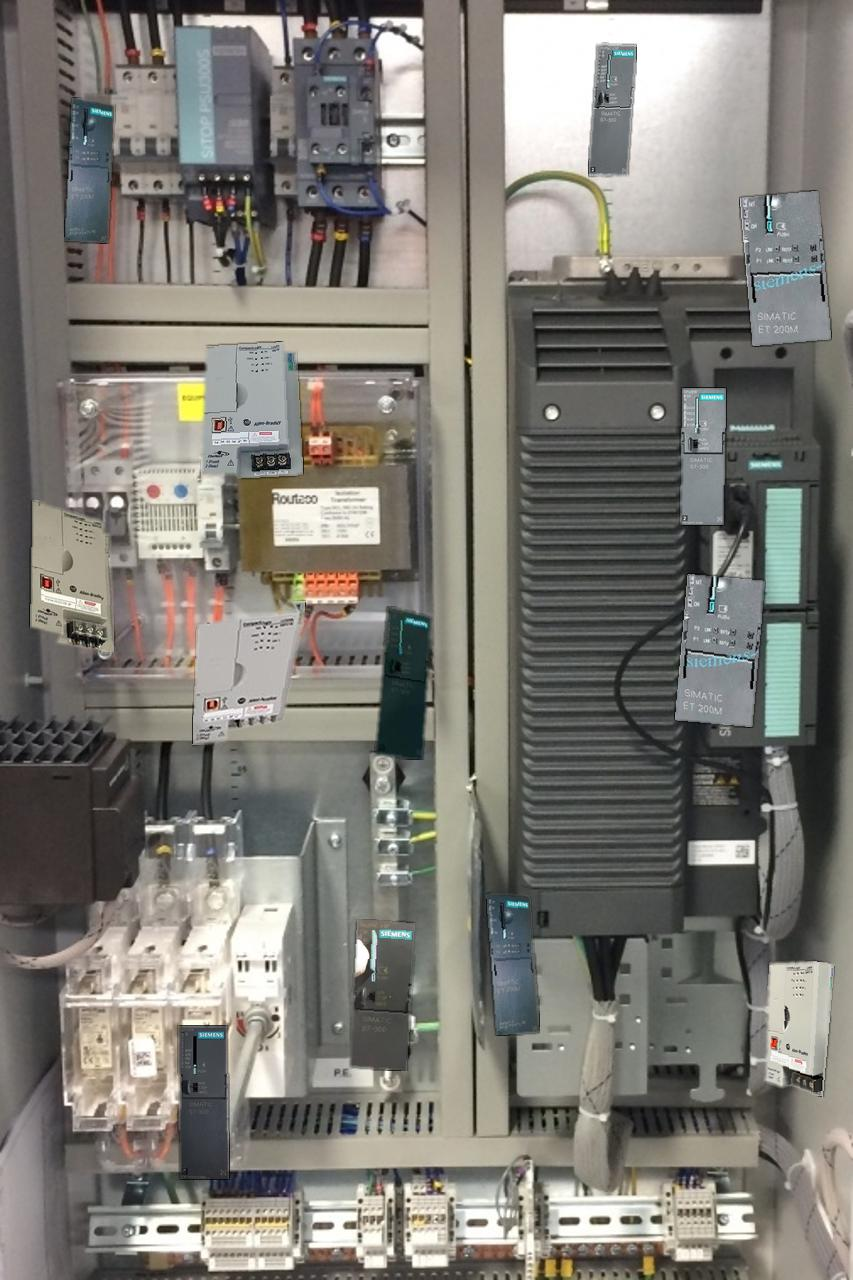AllenBradley: (192, 601, 305, 744), (201, 342, 302, 478), (30, 500, 113, 651), (765, 961, 833, 1096)
Siemens: (350, 921, 414, 1070), (376, 606, 430, 759), (179, 1026, 228, 1178), (588, 44, 636, 175), (681, 388, 725, 524)
